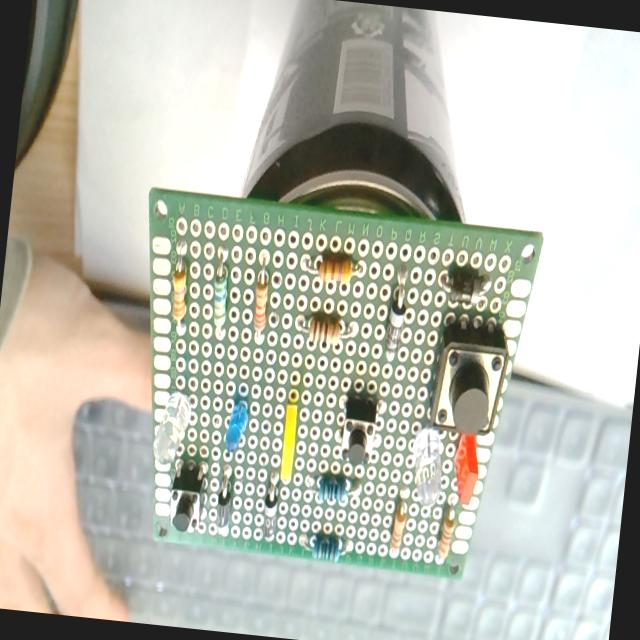diode: (382, 266, 411, 364), (438, 268, 492, 306), (258, 472, 280, 542), (213, 466, 234, 538)
led: (407, 425, 448, 509), (448, 432, 482, 508), (279, 398, 299, 480), (223, 398, 249, 456)
resistor: (151, 388, 193, 469), (209, 250, 234, 335), (250, 268, 272, 342), (167, 258, 191, 324), (308, 316, 342, 351), (318, 255, 355, 286), (436, 510, 456, 566), (388, 504, 407, 558), (310, 534, 342, 564), (316, 475, 348, 505)
switch: (427, 320, 510, 439), (167, 458, 210, 536), (339, 397, 379, 468)
